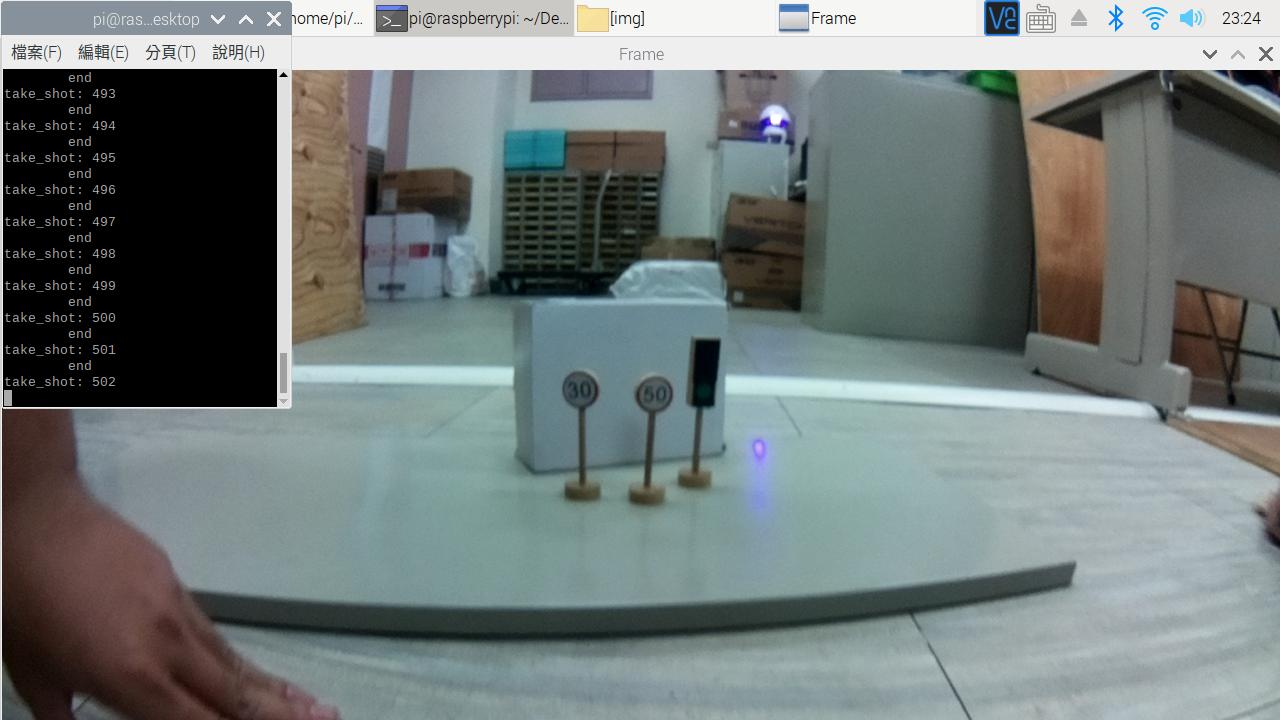Green: (682, 329, 731, 416)
Speed30: (546, 362, 607, 417)
Speed50: (630, 374, 674, 416)
